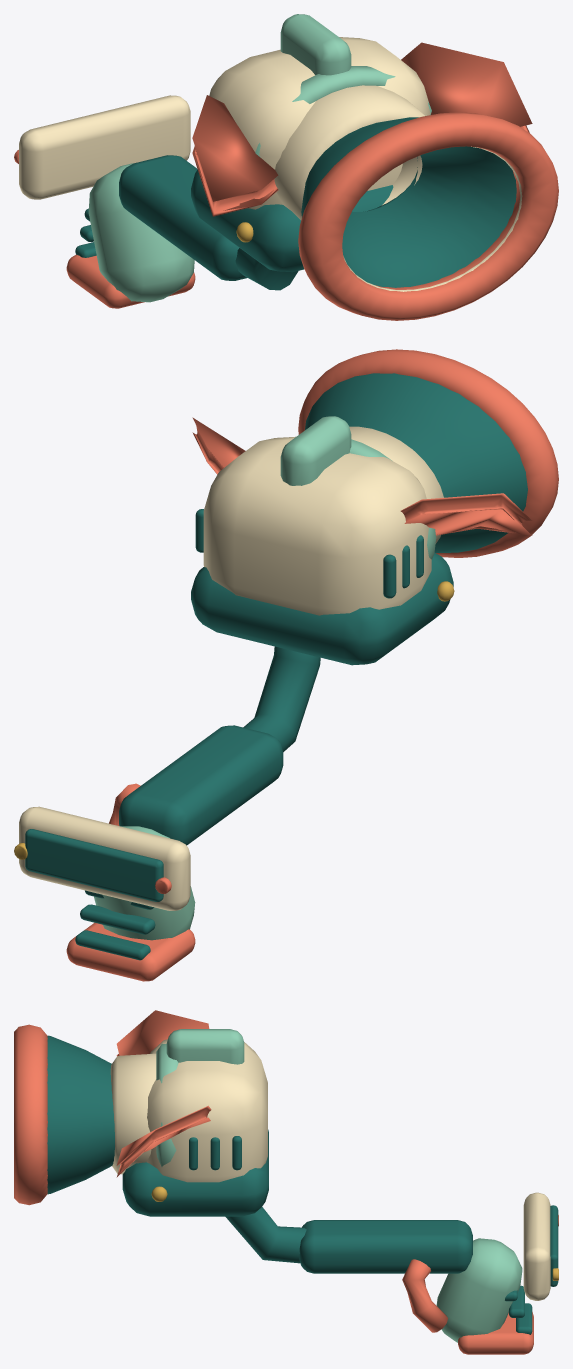
File: CollectorBody.fbx
3 views of the same model, one above another, from view 1: azimuth 30°, elevation 25°; view 2: azimuth 150°, elevation 25°; view 3: azimuth 270°, elevation 25° (orthographic). The views are drawn at different scales.
Visible parts, largest first — view 1: CollectorBody_Visual; view 2: CollectorBody_Visual; view 3: CollectorBody_Visual.
Boxes of the visible parts, x1,y1,x2,y2 form: CollectorBody_Visual: [14, 14, 558, 320]; CollectorBody_Visual: [14, 349, 558, 981]; CollectorBody_Visual: [14, 1010, 558, 1354].
Size of the model in its own units: 0.3582 by 0.4232 by 0.674.
